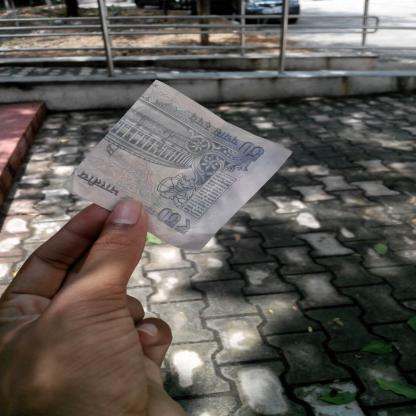Old50Back: (61, 80, 293, 254)
